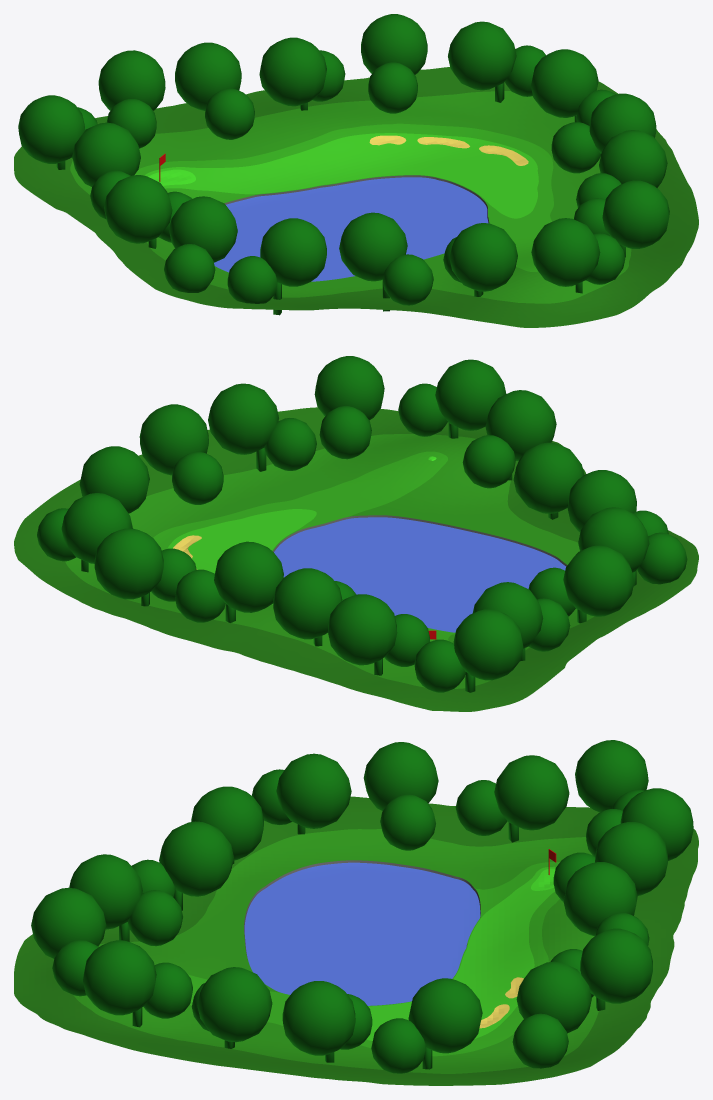
Rendered from gamble.glb.
The picture shows the model from 3 angles, top to bottom: view 1: azimuth 30°, elevation 25°; view 2: azimuth 150°, elevation 25°; view 3: azimuth 270°, elevation 25°; orthographic projection. The views are drawn at different scales.
Visible parts, largest first — view 1: OB, heavy_rough, fairway, water, rough, Sphere.015, Sphere.016, Sphere.009, Sphere.014, Sphere.006, Sphere.005, Sphere.008 (+12 smaller); view 2: OB, heavy_rough, water, rough, Sphere.002, Sphere.011, Sphere.007, Sphere.003, Sphere.008, Sphere.010, Sphere.017, Sphere.001 (+11 smaller); view 3: water, OB, heavy_rough, fairway, Sphere.004, Sphere.012, Sphere.001, Sphere.005, Sphere.013, Sphere.017, Sphere.014, Sphere.016 (+12 smaller).
Part boxes in pixels (<box>): OB: <box>14,67,698,327</box>; heavy_rough: <box>70,91,631,303</box>; fairway: <box>145,134,537,217</box>; water: <box>214,177,488,281</box>; rough: <box>134,123,553,271</box>; Sphere.015: <box>227,218,326,315</box>; Sphere.016: <box>339,212,433,311</box>; Sphere.009: <box>175,42,254,139</box>; Sphere.014: <box>164,196,237,292</box>; Sphere.006: <box>361,14,427,113</box>; Sphere.005: <box>448,21,545,102</box>; Sphere.008: <box>531,218,625,293</box>; OB: <box>14,407,698,711</box>; heavy_rough: <box>65,434,594,688</box>; water: <box>274,517,565,632</box>; rough: <box>153,451,455,641</box>; Sphere.002: <box>208,383,316,471</box>; Sphere.011: <box>414,609,523,692</box>; Sphere.007: <box>175,541,283,622</box>; Sphere.003: <box>139,404,223,504</box>; Sphere.008: <box>398,359,506,438</box>; Sphere.010: <box>328,594,430,675</box>; Sphere.017: <box>462,390,556,488</box>; Sphere.001: <box>314,356,384,459</box>; water: <box>244,862,480,1005</box>; OB: <box>14,796,698,1085</box>; heavy_rough: <box>73,829,598,1073</box>; fairway: <box>367,867,555,1040</box>; Sphere.004: <box>371,978,482,1073</box>; Sphere.012: <box>455,755,569,842</box>; Sphere.001: <box>83,940,192,1027</box>; Sphere.005: <box>512,961,591,1068</box>; Sphere.013: <box>363,742,438,850</box>; Sphere.017: <box>69,854,182,946</box>; Sphere.014: <box>252,753,351,834</box>; Sphere.016: <box>131,821,233,910</box>.
Size of the model in its own units: 1.83 by 0.3749 by 1.82.
